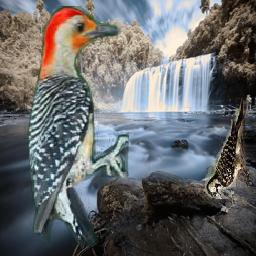Woodpecker: (25, 6, 130, 246), (205, 99, 249, 200)
